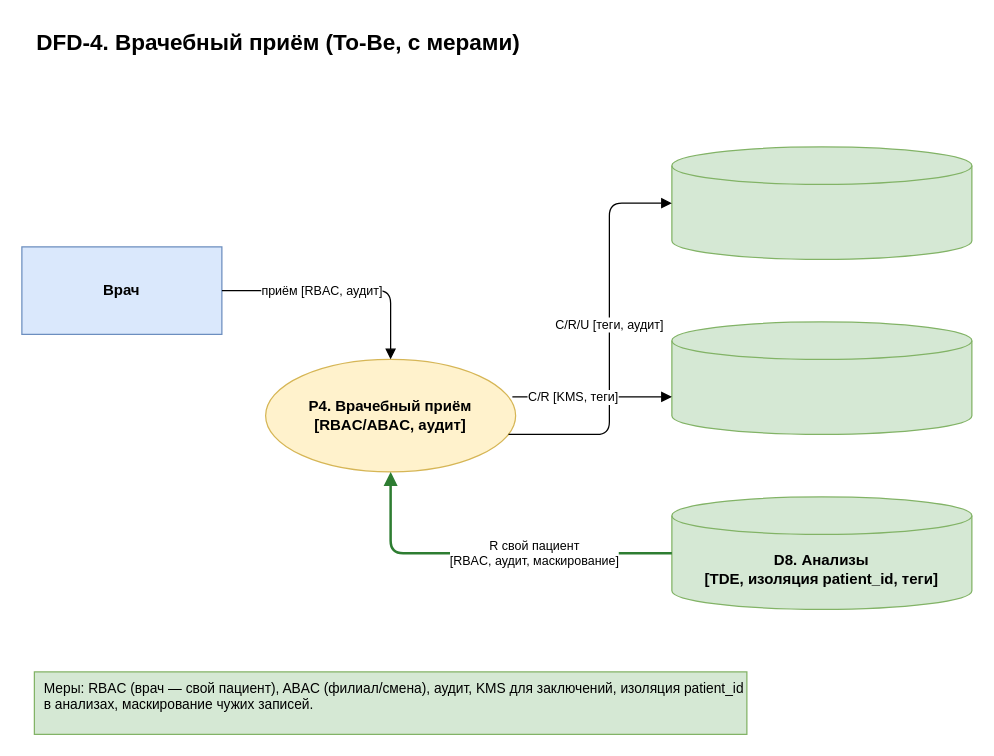
This 994x756 diagram has some shape labels left out. The box of each missing label's shape, as (x1, y1, x2, y2) in pixels:
D1. БД журнала [TDE, тег class:pii]: (671, 146, 972, 259)
D3. Заключения [KMS, тег class:health]: (671, 321, 972, 434)
